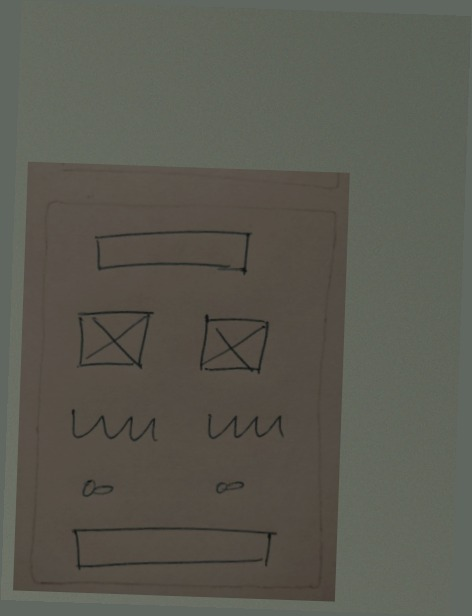image: (66, 300, 160, 379), (192, 306, 274, 381)
switch: (70, 471, 122, 507), (205, 467, 254, 501)
text: (61, 403, 168, 454), (200, 406, 292, 451)
text_input: (59, 516, 279, 579), (86, 222, 258, 281)
